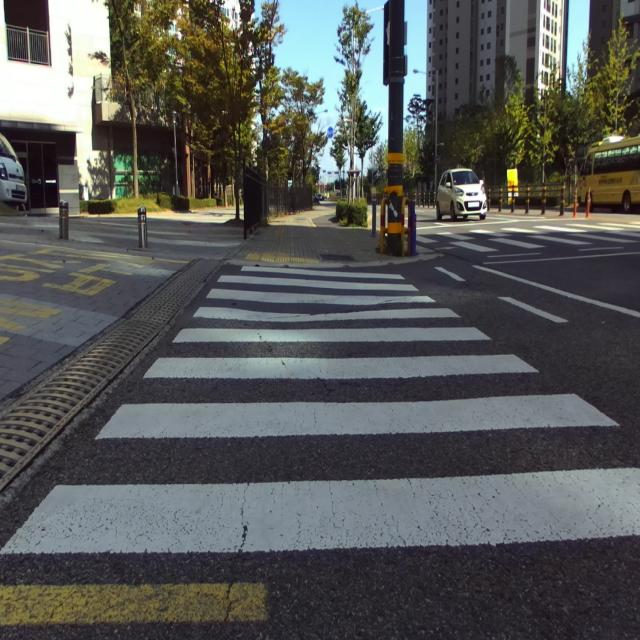횡단보도: (0, 265, 640, 555)
